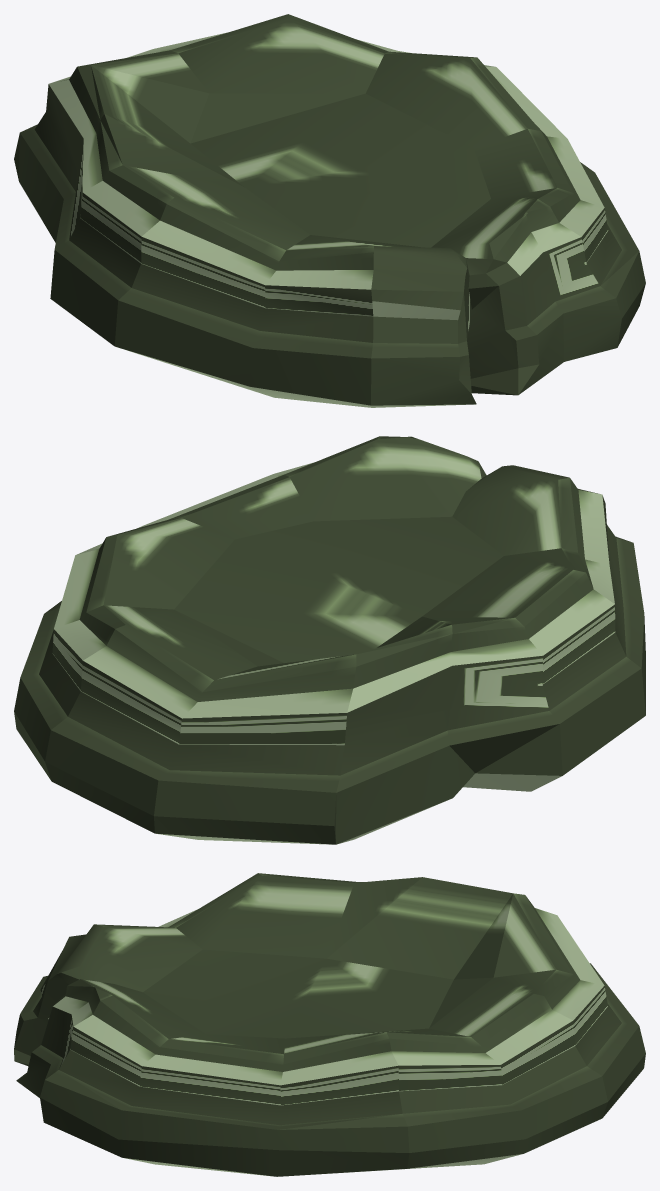
The model's file is EA_Swamp_Fungus_01b.glb.
The picture shows the model from 3 angles, top to bottom: view 1: azimuth 30°, elevation 25°; view 2: azimuth 150°, elevation 25°; view 3: azimuth 270°, elevation 25°; orthographic projection. The views are drawn at different scales.
Visible parts, largest first — view 1: EA_Swamp_Fungus_01b; view 2: EA_Swamp_Fungus_01b; view 3: EA_Swamp_Fungus_01b.
Part boxes in pixels (left/top/right/bottom): EA_Swamp_Fungus_01b: left=14, top=14, right=645, bottom=407; EA_Swamp_Fungus_01b: left=14, top=436, right=645, bottom=844; EA_Swamp_Fungus_01b: left=14, top=873, right=645, bottom=1176.
Bounding box in the file's own units: 1 × 0.3981 × 1.28.
1 material, 1 textured.
